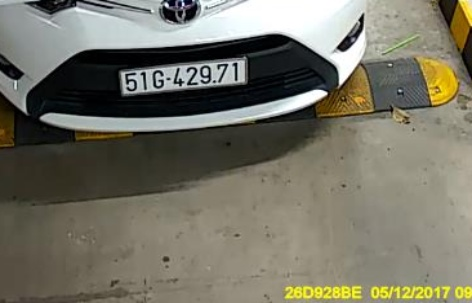plate: (118, 57, 251, 99)
